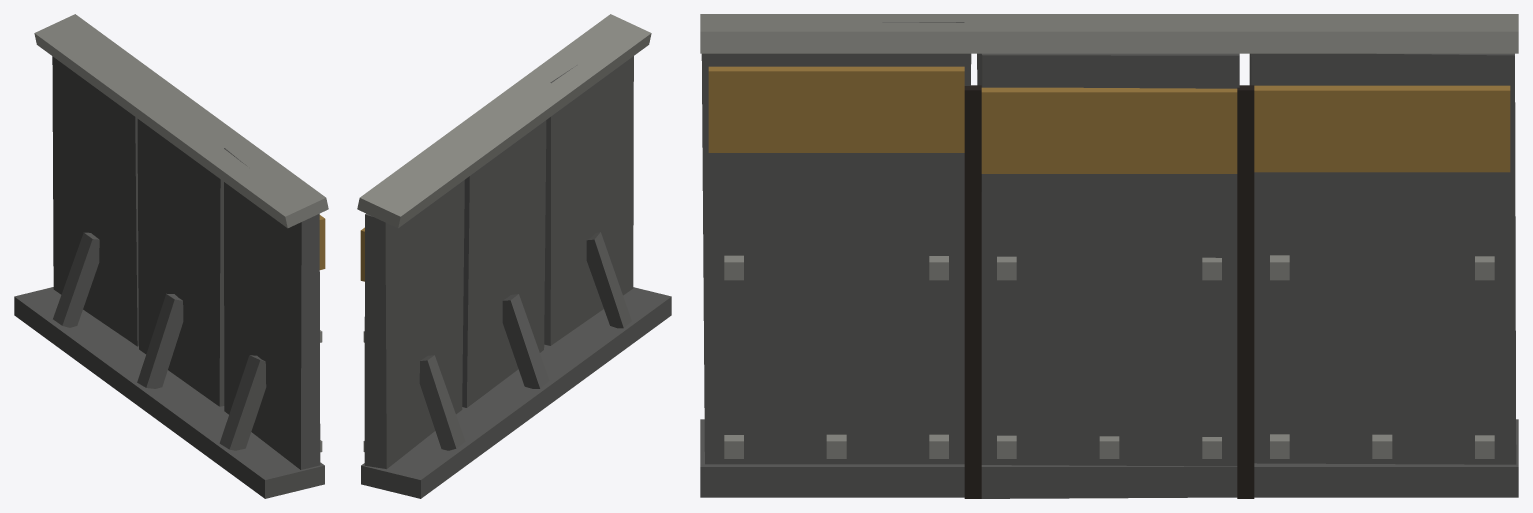
The model's file is arm_plates.glb.
3 views of the same model, side by side, from view 1: azimuth 30°, elevation 25°; view 2: azimuth 150°, elevation 25°; view 3: azimuth 270°, elevation 25° (orthographic). The views are drawn at different scales.
Parts seen in each view (by area): view 1: arm_plates; view 2: arm_plates; view 3: arm_plates.
Part boxes in pixels (box(x1,y1,x2,y2)): arm_plates: box(14, 14, 328, 498); arm_plates: box(357, 14, 671, 498); arm_plates: box(700, 14, 1518, 498).
Bounding box in the file's own units: 0.215 × 0.9219 × 1.45.
